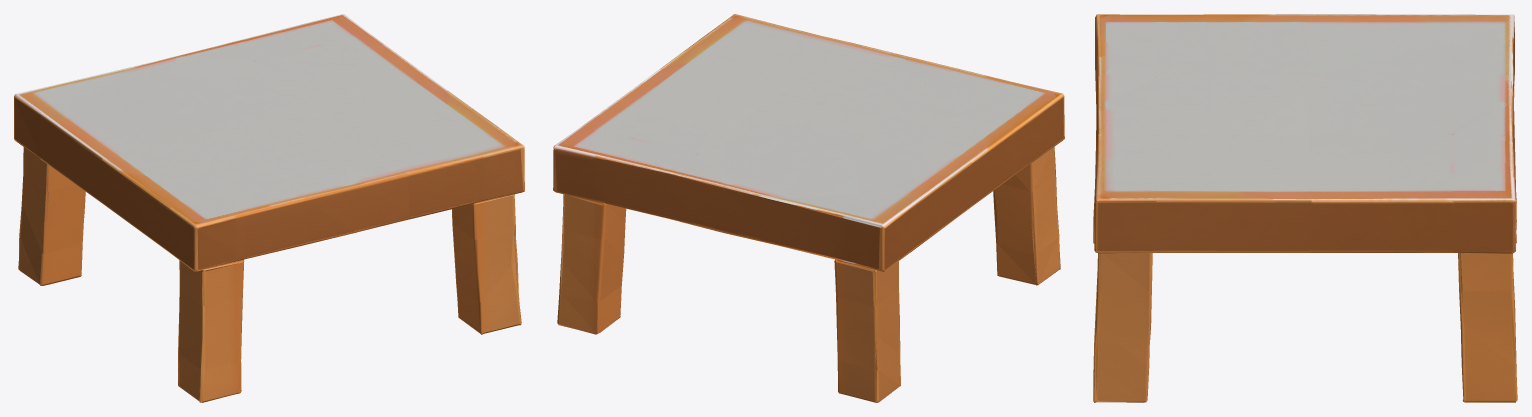
File: upperFloor.glb
3 renders of one model, left to right at view 1: azimuth 30°, elevation 25°; view 2: azimuth 150°, elevation 25°; view 3: azimuth 270°, elevation 25°, orthographic. The views are drawn at different scales.
Size of the model in its own units: 1 by 0.5156 by 0.9609.
Materials: 1 (1 with a texture image).
